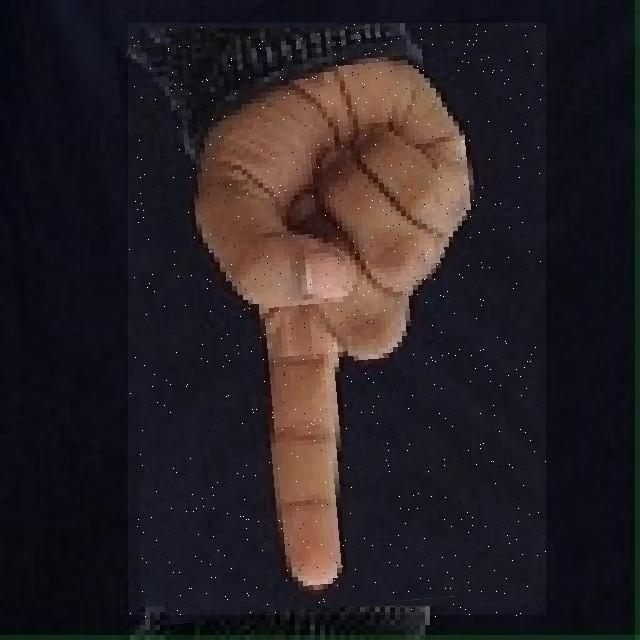IloveYou: (128, 23, 546, 618)
